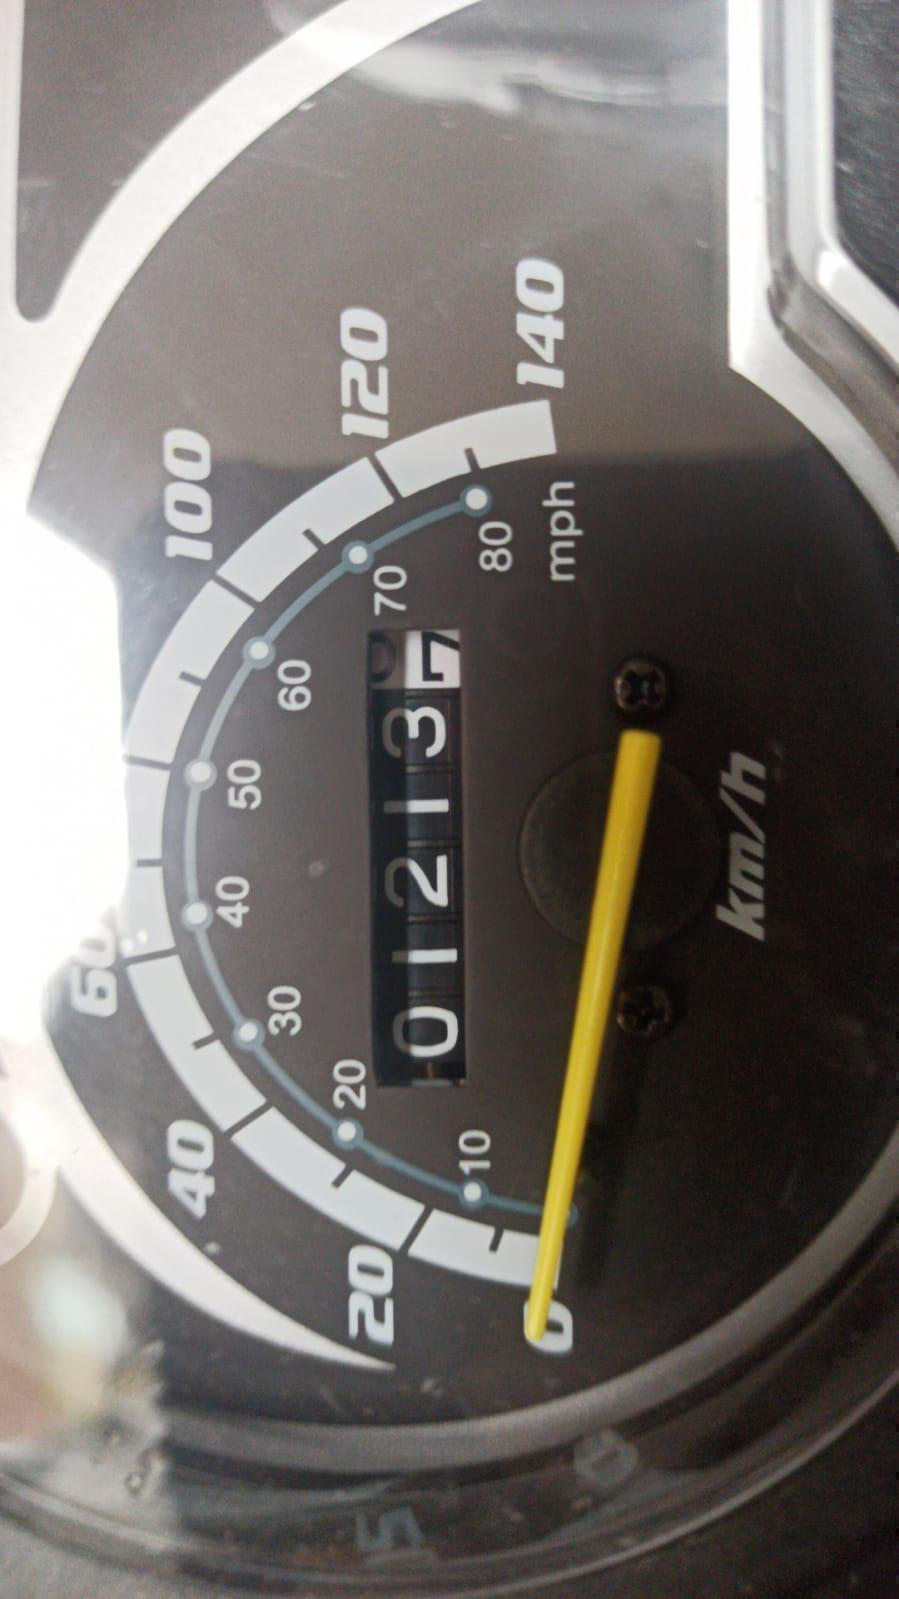0: (384, 1000, 473, 1062), (330, 1060, 363, 1083)
1: (378, 936, 479, 974), (371, 789, 462, 826)
2: (379, 852, 457, 910)
3: (372, 702, 459, 760)
7: (406, 627, 481, 687)
odometer: (344, 612, 494, 1092)
